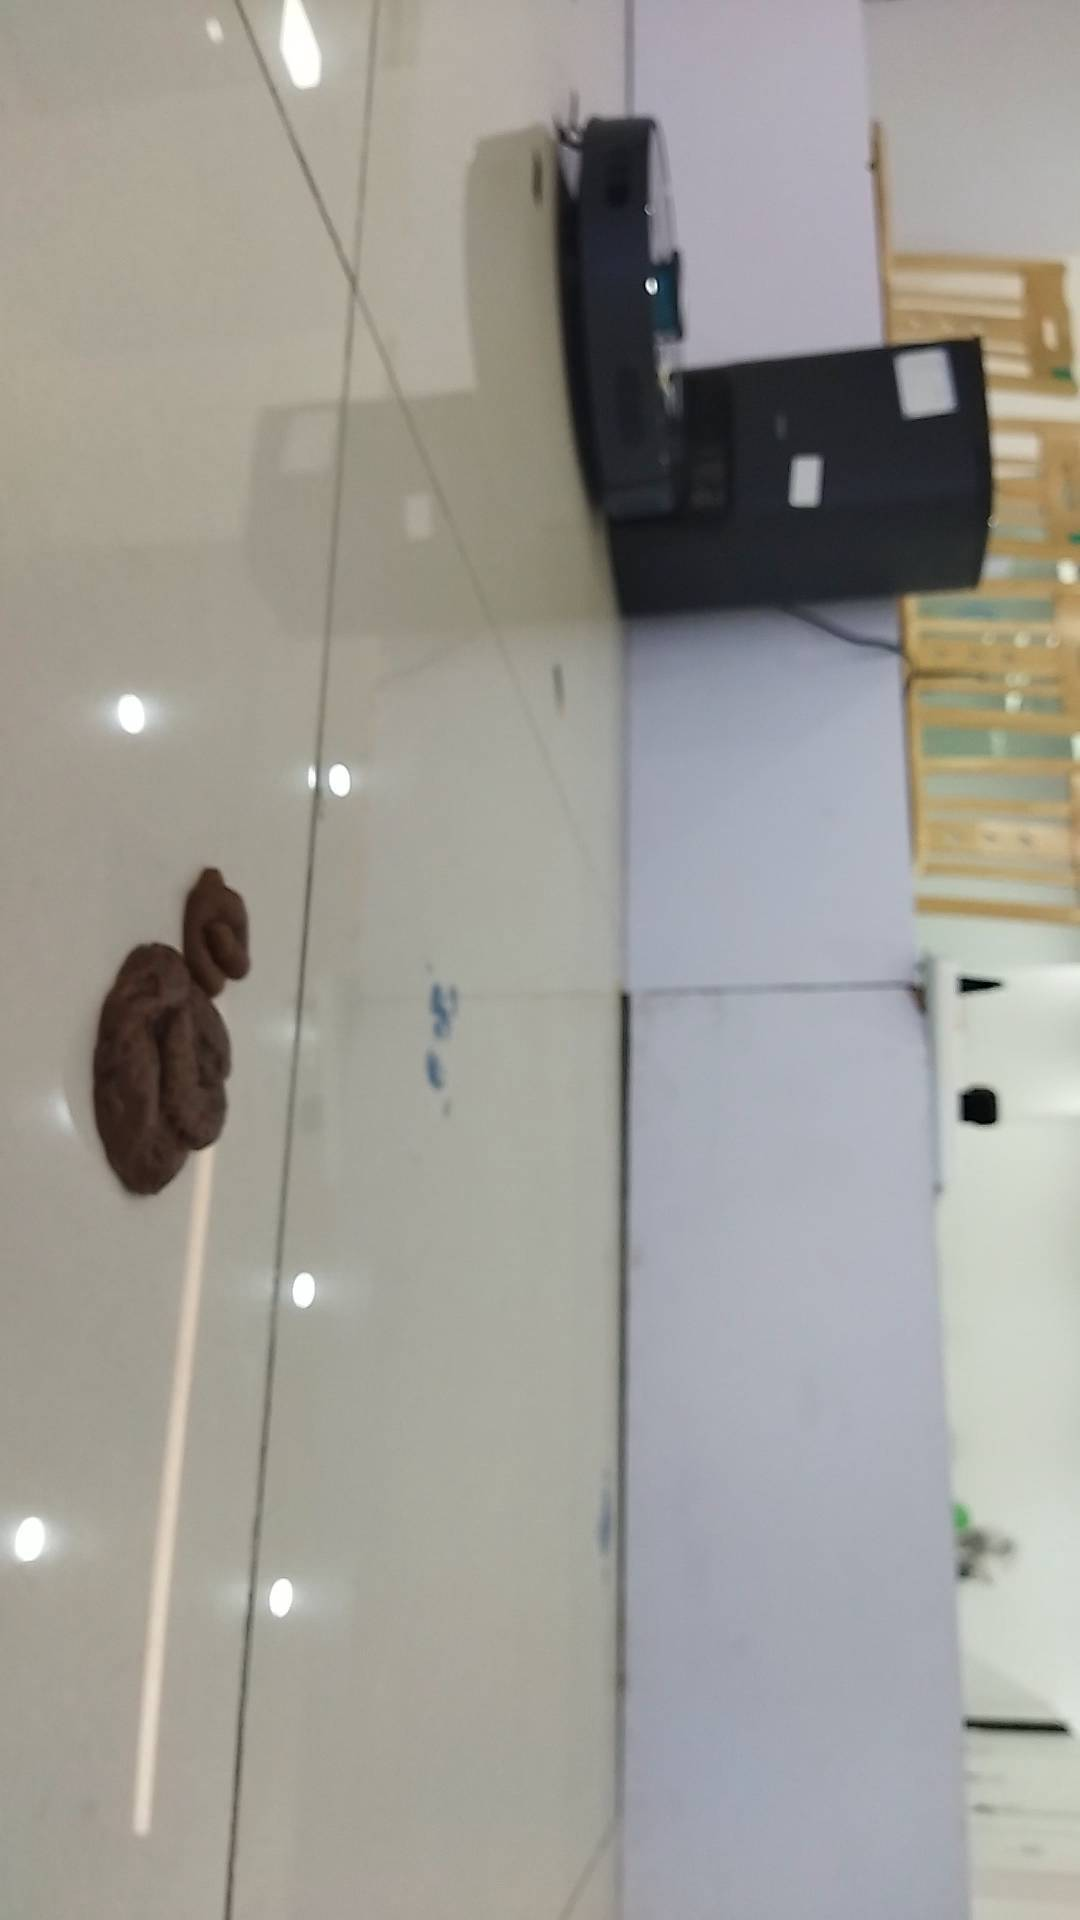dust collecting barrel: (607, 334, 1000, 613)
